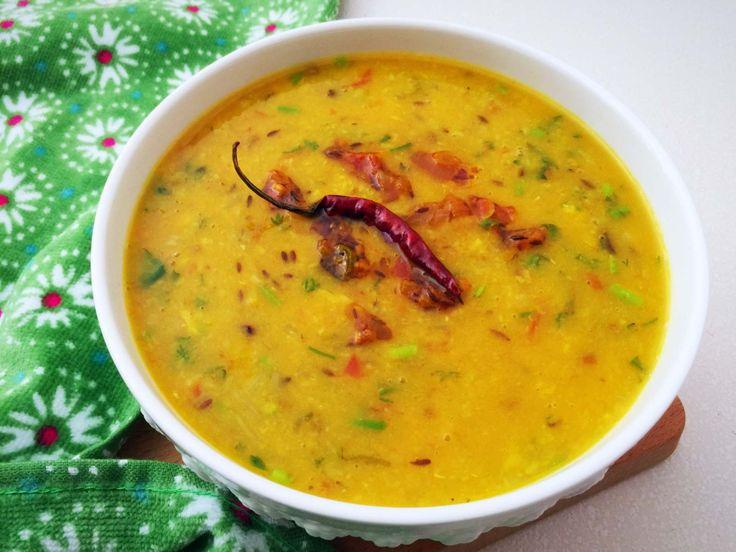daal: (108, 41, 664, 513)
